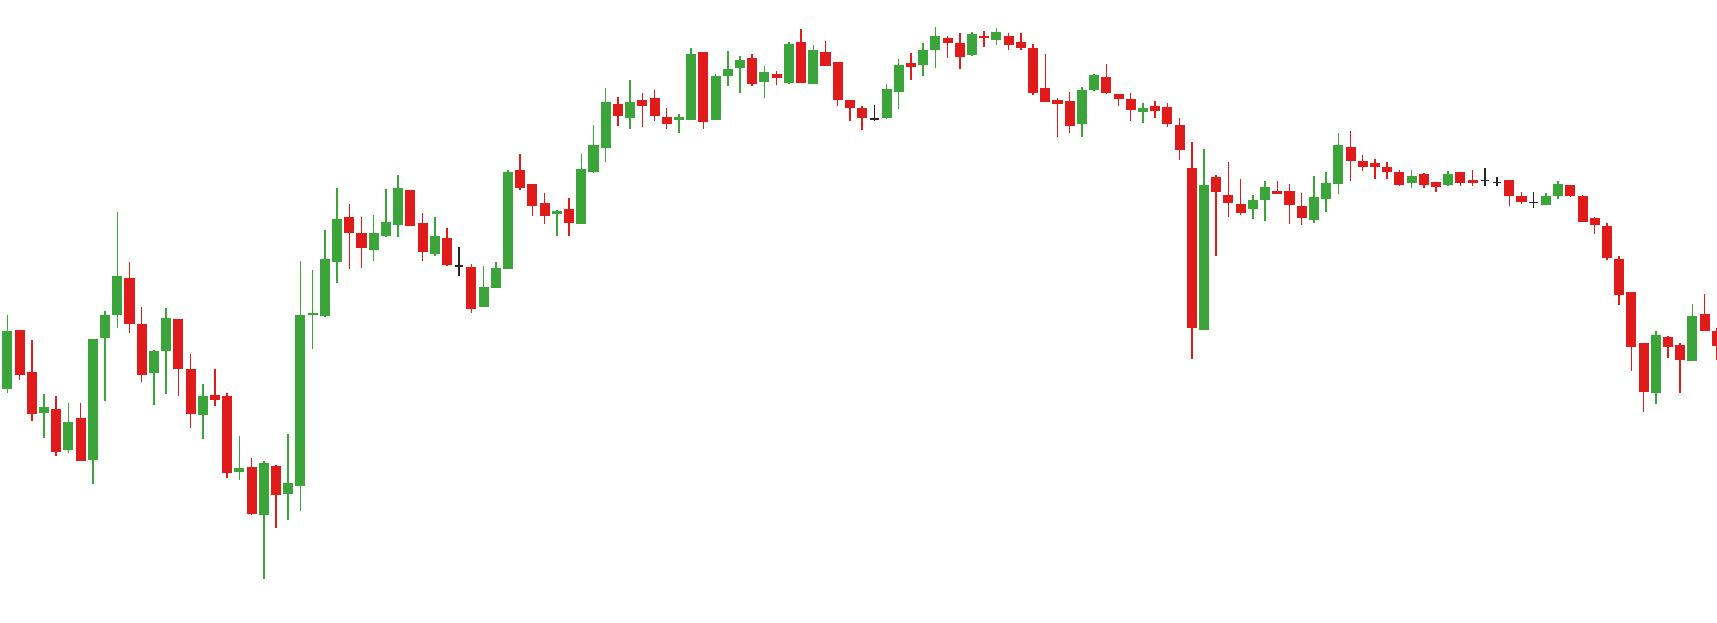sell: (3, 216, 136, 390)
